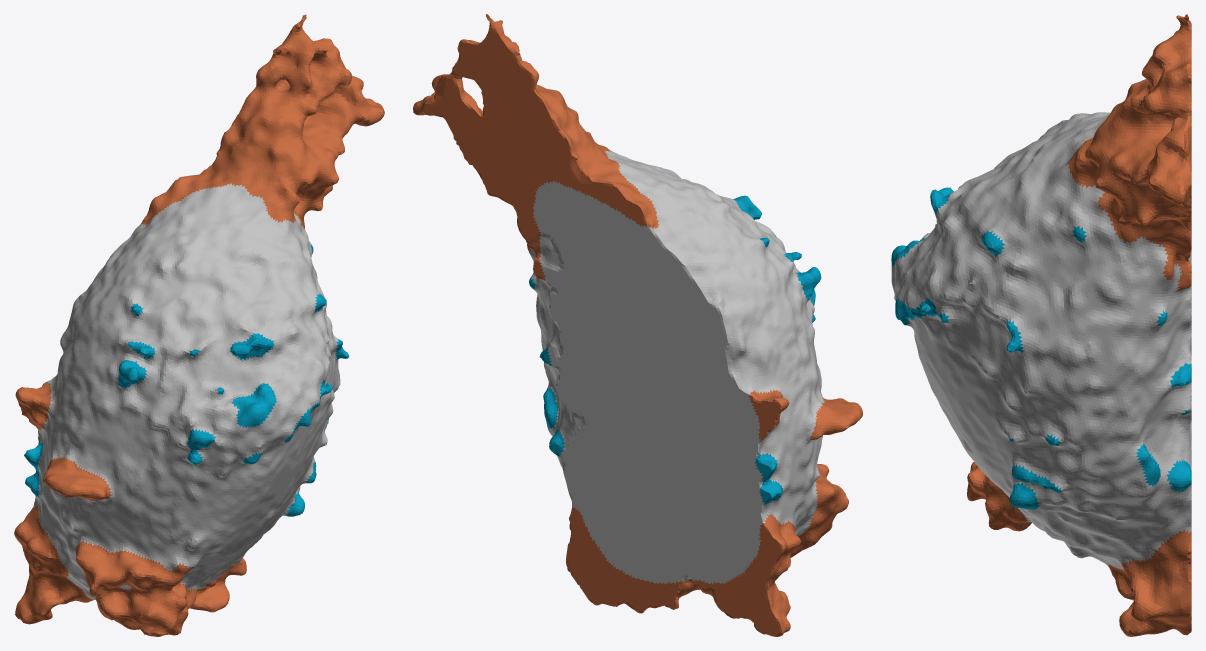
3 views of the same model, side by side, from view 1: azimuth 30°, elevation 25°; view 2: azimuth 150°, elevation 25°; view 3: azimuth 270°, elevation 25° (orthographic). The views are drawn at different scales.
Size of the model in its own units: 127 by 175 by 69.24.
